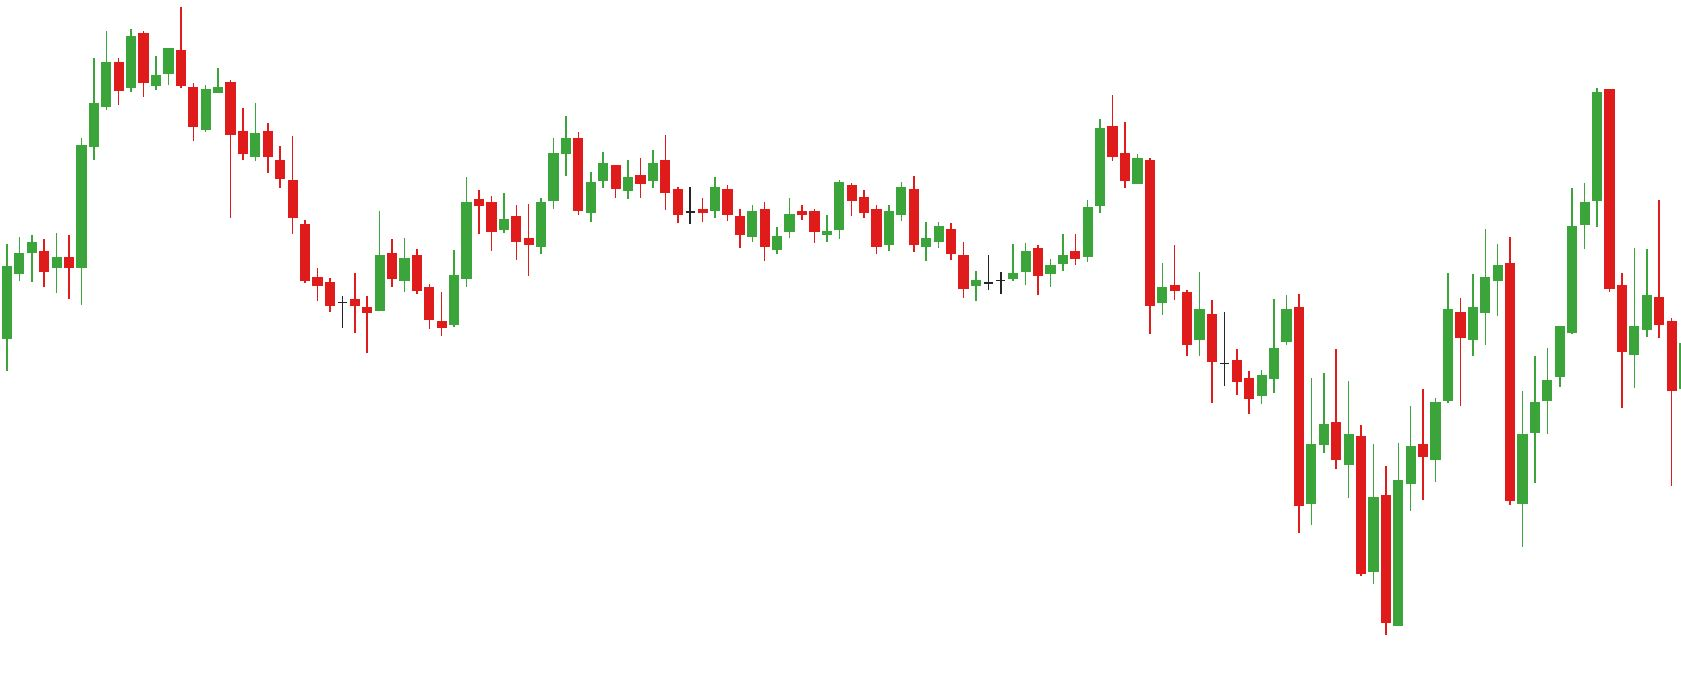buy: (1405, 342, 1531, 553)
sell: (893, 95, 1130, 235)
